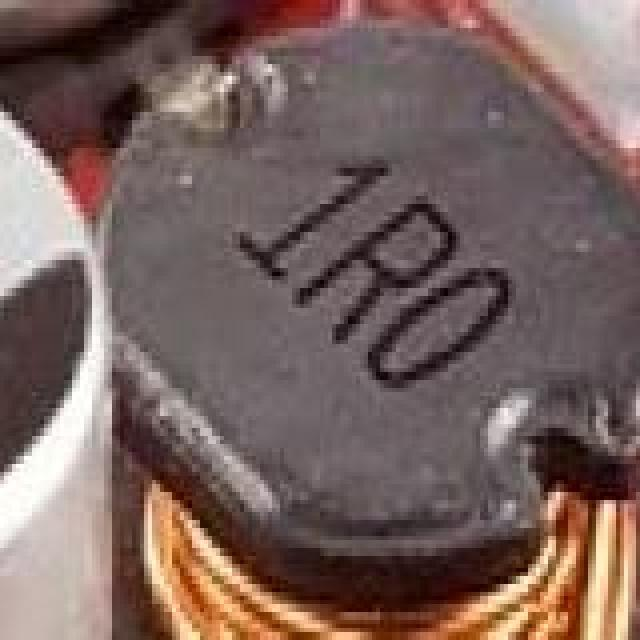capacitor: (0, 8, 136, 640)
inductor: (108, 0, 640, 640)
